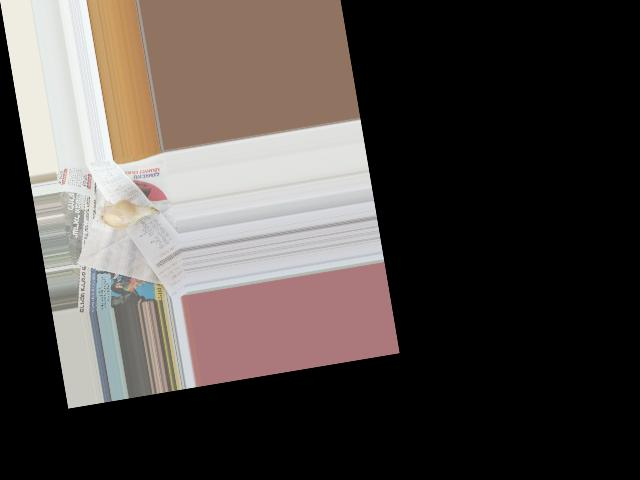onion: (96, 197, 146, 235)
